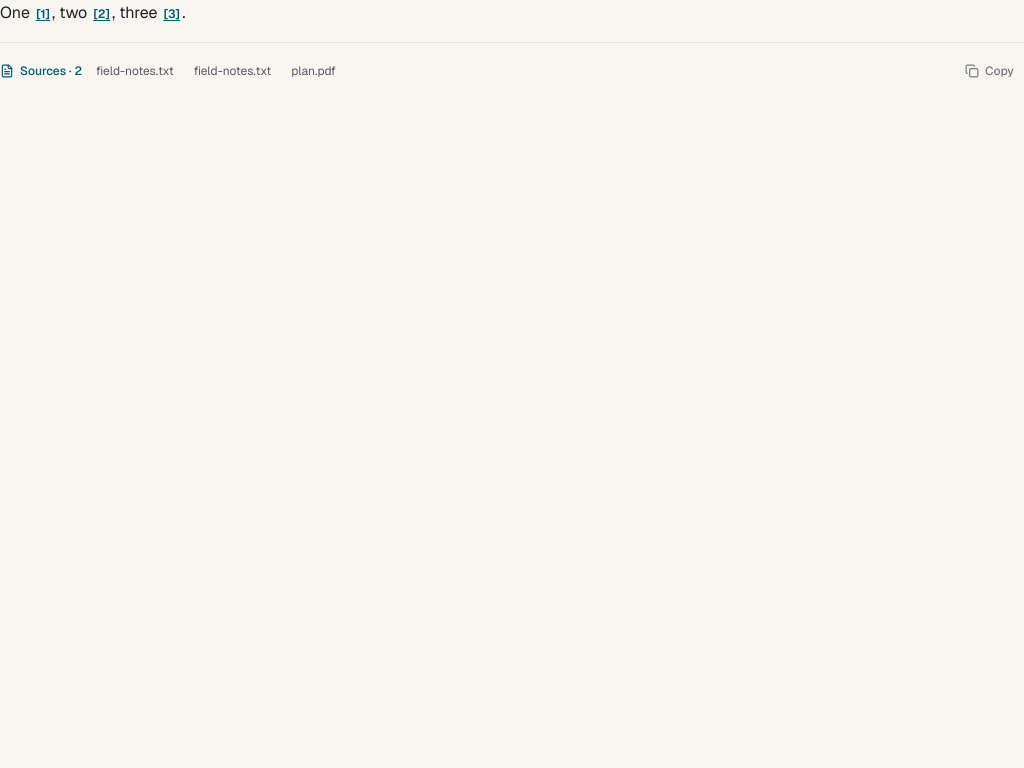
Test case: answer citation interaction › counts cited files without discarding same-file cited passages
Expected: the button "Sources · 2" is shown, [0, 63, 82, 79]
Click the button named "view citation 2" at (102, 14), box [93, 6, 110, 22]
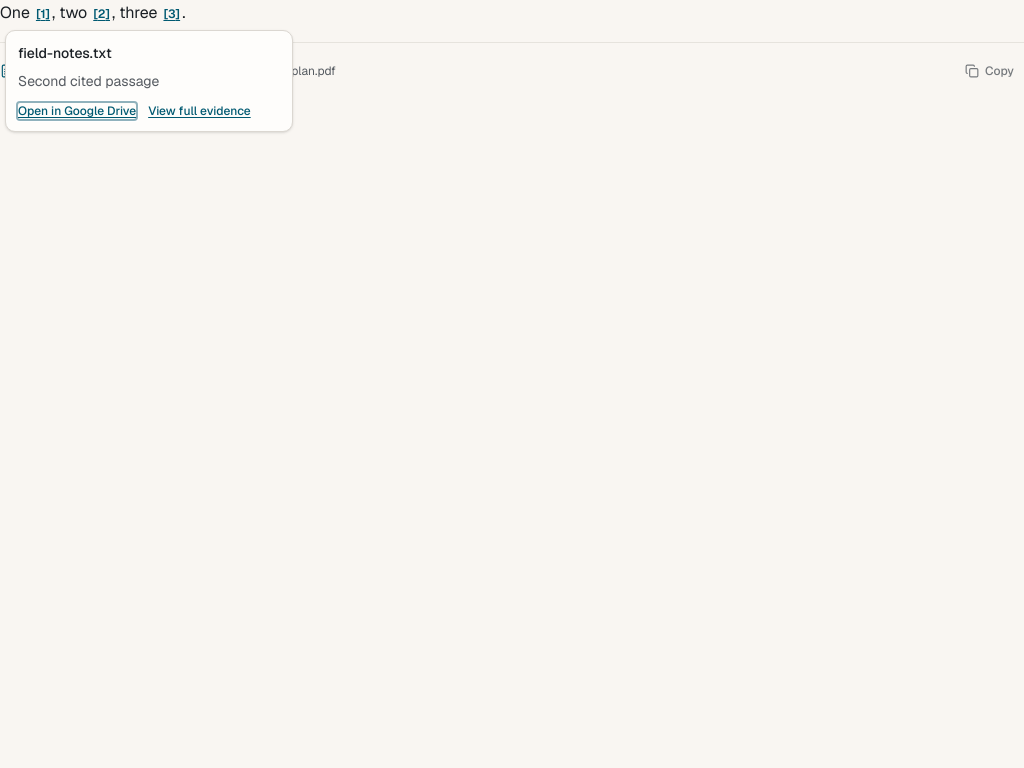
Expected: the text "Second cited passage" is shown, [18, 72, 159, 90]
